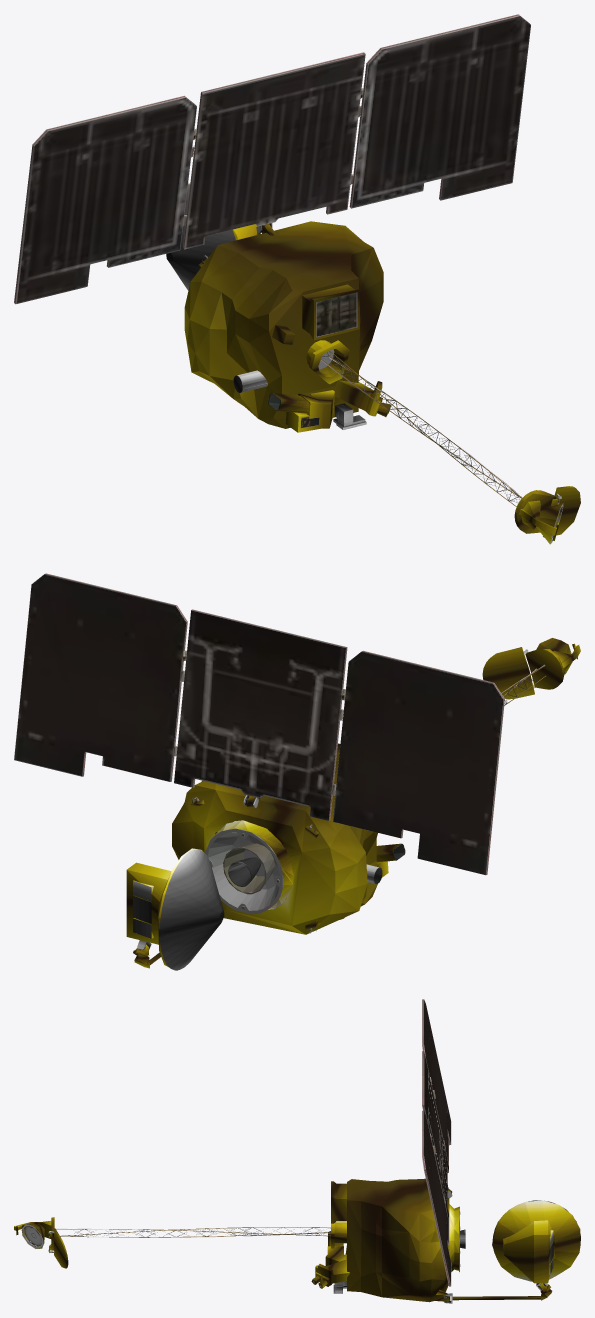
The model's file is mars-odyssey-preview.glb.
3 views of the same model, one above another, from view 1: azimuth 30°, elevation 25°; view 2: azimuth 150°, elevation 25°; view 3: azimuth 270°, elevation 25° (orthographic). The views are drawn at different scales.
Visible parts, largest first — view 1: shiny_panel, foil_gold, tex_01, tex_boom, foil_silver; view 2: tex_01, shiny_panel, foil_gold, foil_silver, tex_04; view 3: foil_gold, tex_01, shiny_panel, tex_boom.
Boxes of the visible parts, <box> form: shiny_panel: <box>14,14,530,369</box>; foil_gold: <box>184,183,580,544</box>; tex_01: <box>183,88,561,504</box>; tex_boom: <box>321,350,522,506</box>; foil_silver: <box>166,184,242,392</box>; tex_01: <box>14,574,534,948</box>; shiny_panel: <box>14,573,504,914</box>; foil_gold: <box>126,638,580,970</box>; foil_silver: <box>133,849,382,970</box>; tex_04: <box>191,797,378,930</box>; foil_gold: <box>14,1178,580,1302</box>; tex_01: <box>48,999,545,1302</box>; shiny_panel: <box>422,999,460,1286</box>; tex_boom: <box>56,1227,330,1237</box>.
Bounding box in the file's own units: 5.67 × 3.36 × 8.21.
9 materials, 9 textured.
